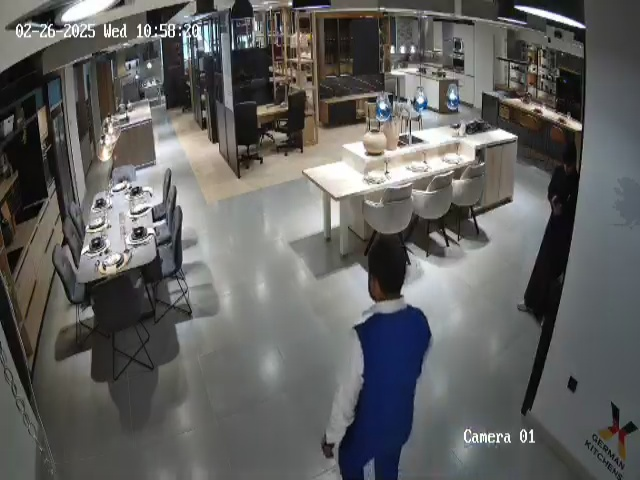employee: (324, 233, 433, 480)
male: (517, 139, 579, 320)
